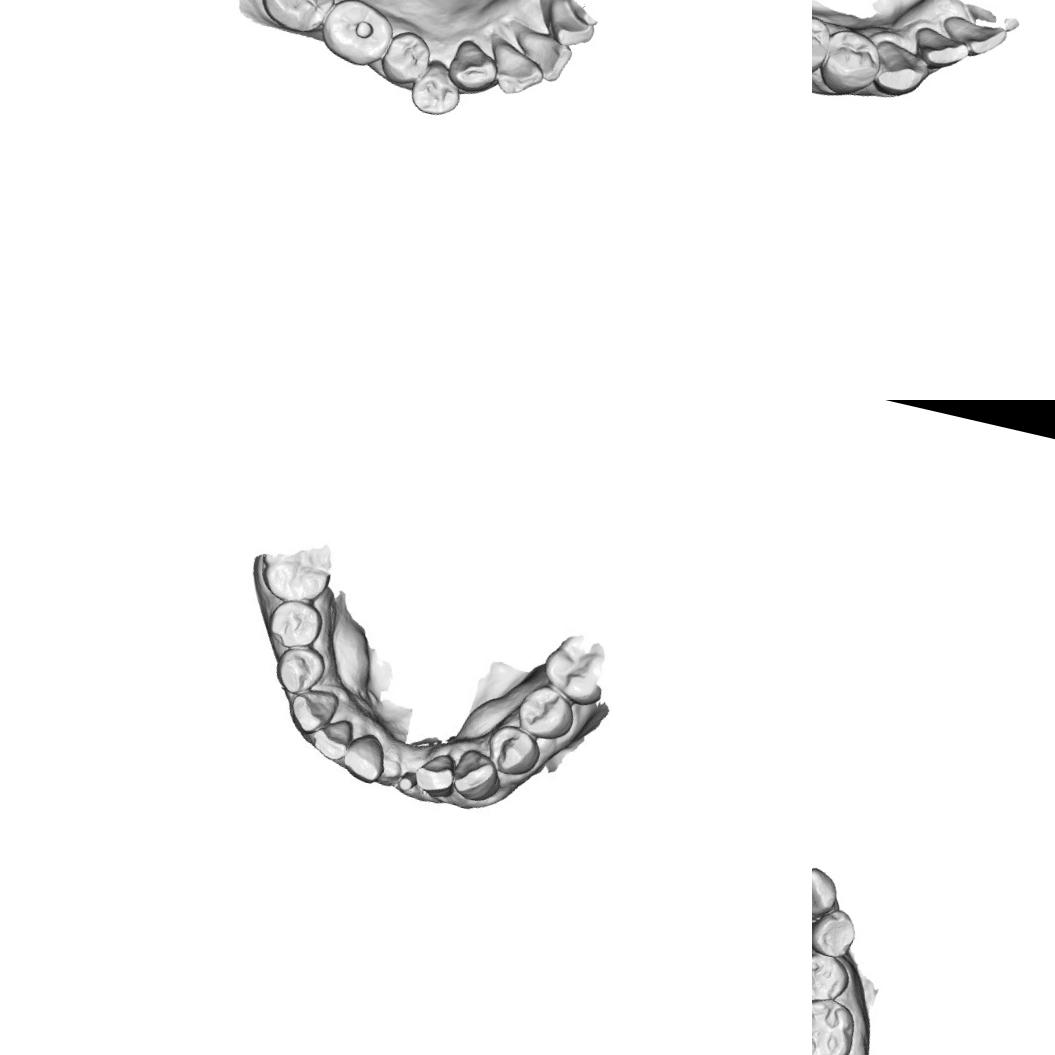abutment: (393, 766, 420, 798)
canine: (442, 33, 506, 102), (869, 36, 932, 102), (450, 747, 506, 806), (284, 684, 340, 740), (812, 900, 860, 961)
incisor: (481, 32, 553, 104), (934, 5, 1013, 64), (508, 22, 576, 88), (908, 22, 971, 78), (302, 710, 360, 769), (336, 731, 388, 787), (411, 747, 462, 803), (812, 859, 844, 926)
molar: (314, 0, 402, 74), (253, 534, 335, 610), (536, 626, 612, 705), (253, 0, 342, 40), (812, 987, 861, 1055)
premolar: (814, 22, 888, 104), (509, 680, 580, 746), (376, 24, 438, 93), (405, 56, 466, 122), (482, 719, 545, 782), (265, 594, 327, 654), (269, 642, 328, 700), (812, 944, 854, 1010), (812, 3, 835, 88)
